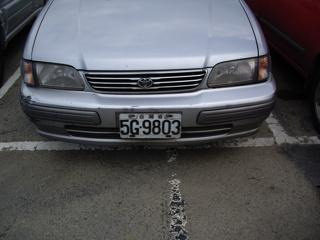plate: (117, 109, 182, 140)
